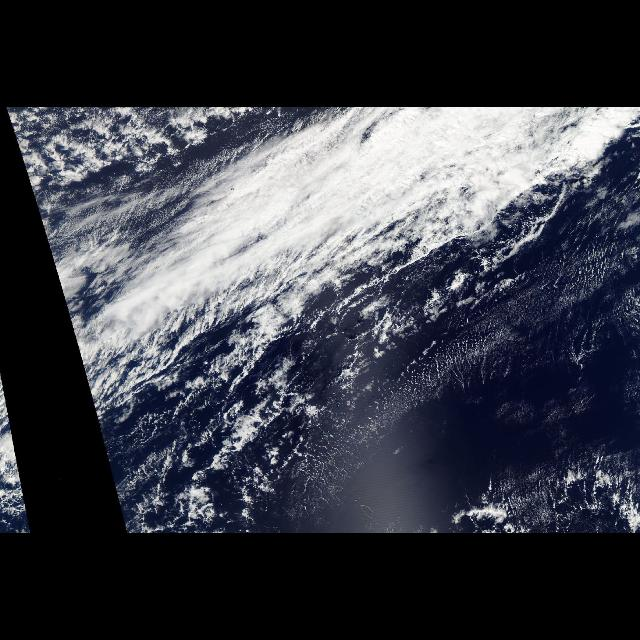Sugar: (334, 254, 634, 522)
